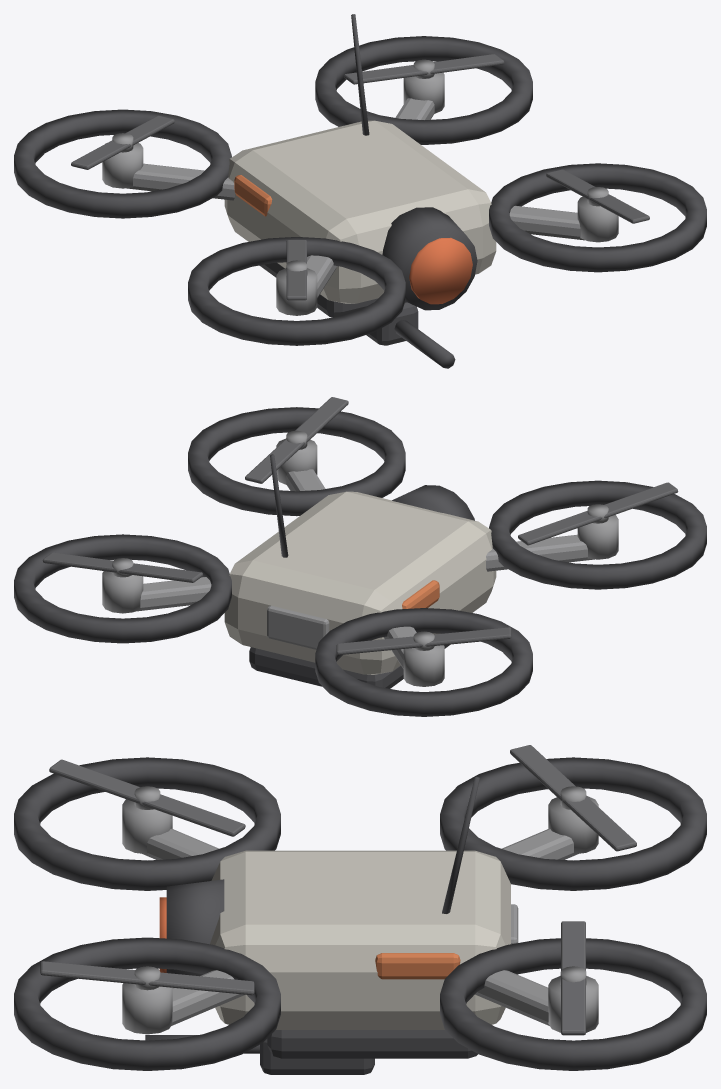
Rendered from drone.glb.
3 renders of one model, top to bottom at view 1: azimuth 30°, elevation 25°; view 2: azimuth 150°, elevation 25°; view 3: azimuth 270°, elevation 25°, orthographic. The views are drawn at different scales.
Parts seen in each view (by area): view 1: Frame, Lens, Gun, Rotor0, Rotor1, Rotor3, Rotor2; view 2: Frame, Rotor2, Rotor1, Rotor3, Rotor0; view 3: Frame, Rotor2, Rotor3, Rotor1, Rotor0, Gun.
Part boxes in pixels (x1=…): Frame: x1=14, y1=14, x2=706, y2=345; Lens: x1=409, y1=237, x2=472, y2=304; Gun: x1=366, y1=302, x2=455, y2=368; Rotor0: x1=344, y1=54, x2=504, y2=84; Rotor1: x1=71, y1=115, x2=174, y2=169; Rotor3: x1=546, y1=169, x2=649, y2=223; Rotor2: x1=286, y1=240, x2=307, y2=300; Frame: x1=14, y1=407, x2=706, y2=716; Rotor2: x1=518, y1=482, x2=678, y2=545; Rotor1: x1=336, y1=627, x2=511, y2=654; Rotor3: x1=245, y1=397, x2=348, y2=483; Rotor0: x1=42, y1=552, x2=202, y2=582; Frame: x1=14, y1=757, x2=706, y2=1070; Rotor2: x1=49, y1=759, x2=245, y2=836; Rotor3: x1=40, y1=961, x2=254, y2=995; Rotor1: x1=510, y1=745, x2=636, y2=851; Rotor0: x1=560, y1=921, x2=586, y2=1035; Gun: x1=145, y1=1035, x2=374, y2=1074.
Size of the model in its own units: 0.966 by 0.4833 by 0.966.
